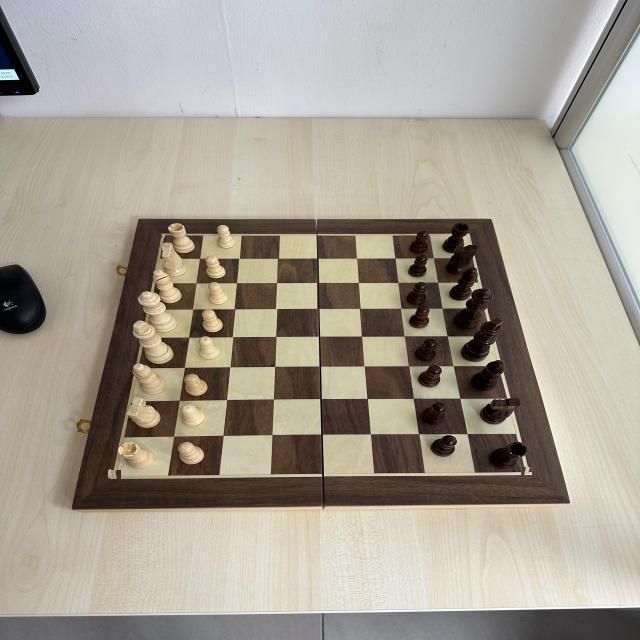chess-table-corners: (108, 470, 121, 481), (522, 467, 534, 477), (158, 232, 169, 238), (467, 232, 471, 236)
